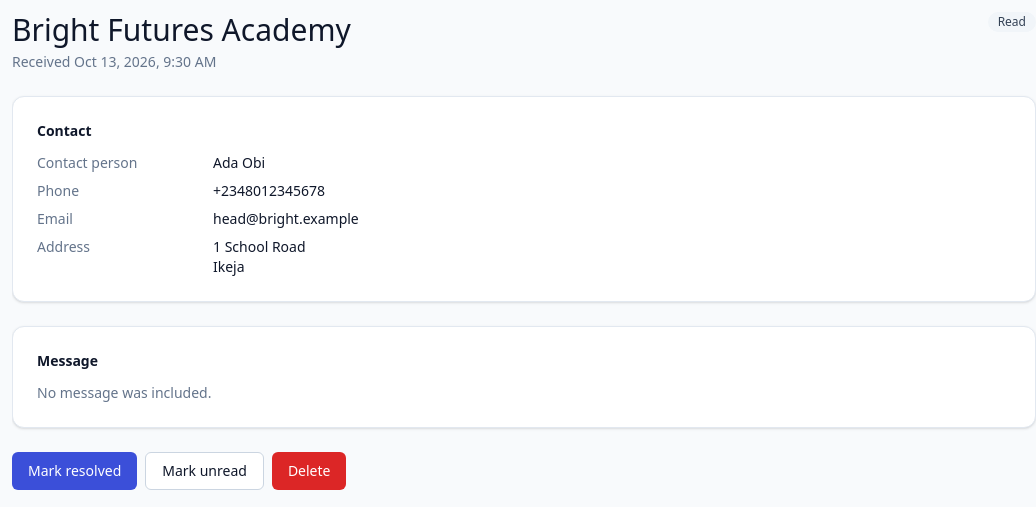
Scenario: EnquiryDetailPage › leaves an already-read enquiry's status alone and can resolve it
Expected: the text "No message was included." is shown, [37,383,212,402]
Click the button "Mark resolved".
click(75, 471)  # box [12,452,137,490]
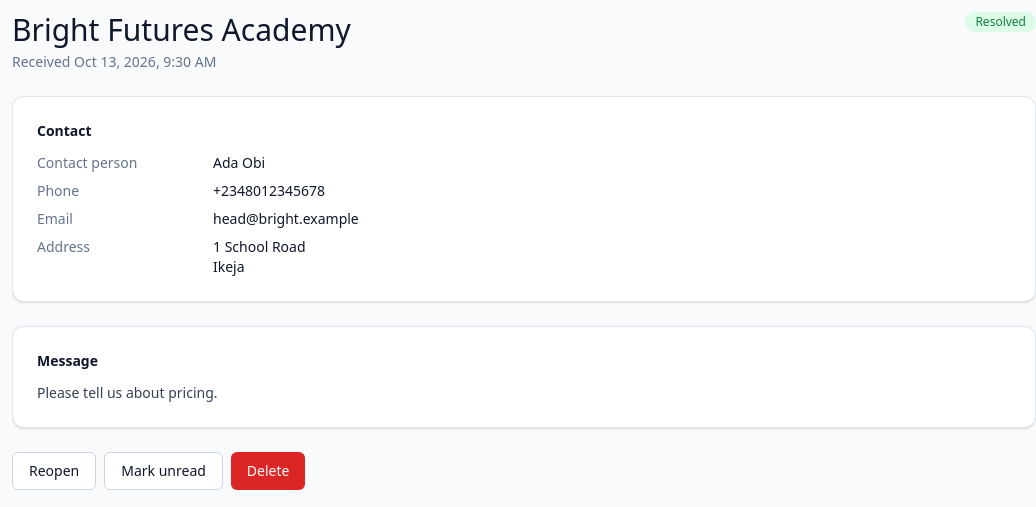
Now the button "Reopen" is shown, box [12,452,96,490]
